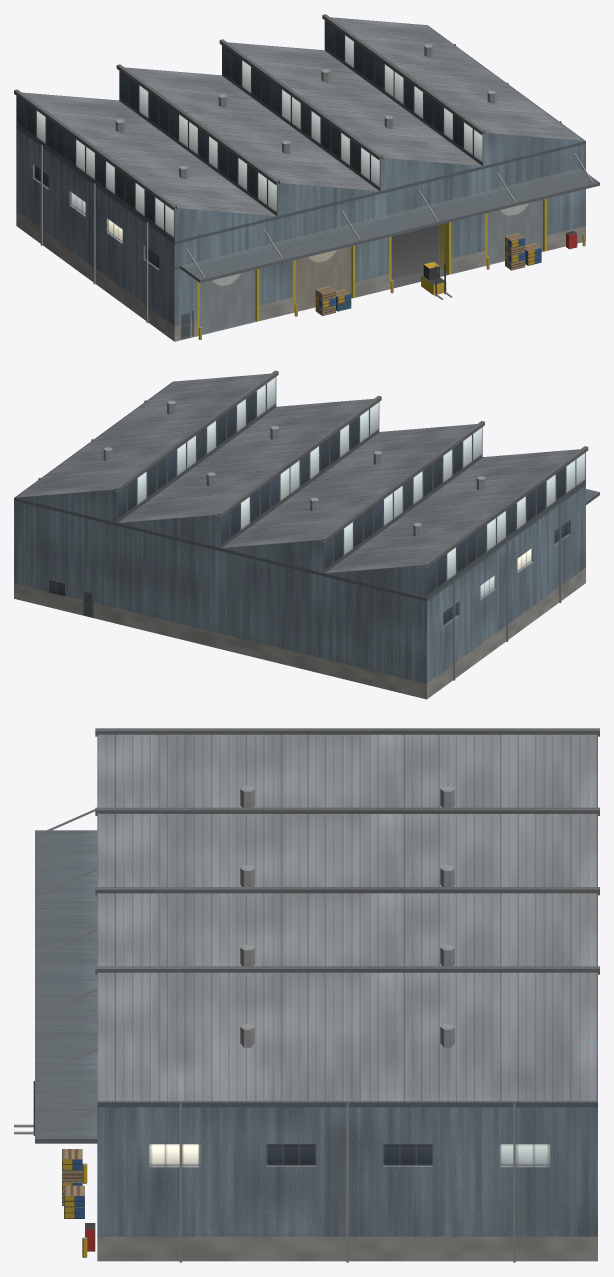
Rendered from tokyo_warehouse_a.glb.
3 views of the same model, one above another, from view 1: azimuth 30°, elevation 25°; view 2: azimuth 150°, elevation 25°; view 3: azimuth 270°, elevation 25° (orthographic). The views are drawn at different scales.
Parts seen in each view (by area): view 1: tokyo_warehouse_a; view 2: tokyo_warehouse_a; view 3: tokyo_warehouse_a.
Boxes of the visible parts, bbox=[...] form: tokyo_warehouse_a: bbox=[14, 14, 599, 341]; tokyo_warehouse_a: bbox=[14, 370, 599, 699]; tokyo_warehouse_a: bbox=[14, 728, 599, 1262].
Bounding box in the file's own units: 36.29 × 11.35 × 28.1.
1 material, 1 textured.
